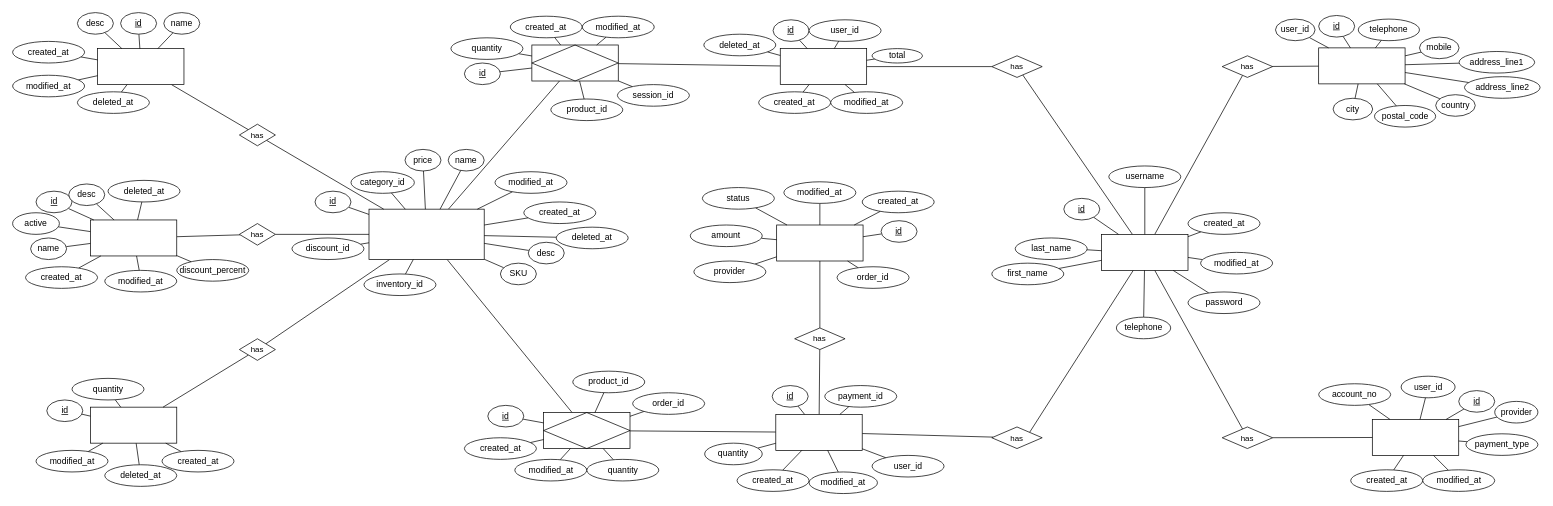
The diagram is 1553 pixels wide and 506 high, and some of its shapes have lost their labels. Here are the shapes that lost their labels. From the top down, the centre of each, then its label:
At point (140, 66): "product_category".
At point (574, 62): "cart_item".
At point (823, 66): "shopping_session".
At point (1361, 65): "user_address".
At point (133, 237): "discount".
At point (426, 234): "product".
At point (819, 242): "payment_details".
At point (1144, 252): "user".
At point (133, 424): "product_inventory".
At point (586, 430): "order_items".
At point (818, 432): "order_details".
At point (1415, 437): "user_payment".
